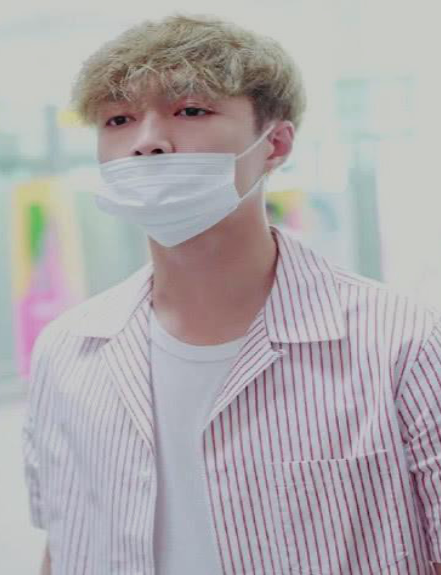mask_weared_incorrect: (90, 97, 258, 251)
